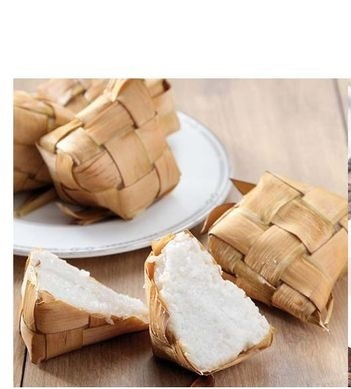ketupat: (203, 171, 349, 323), (37, 78, 181, 222)
